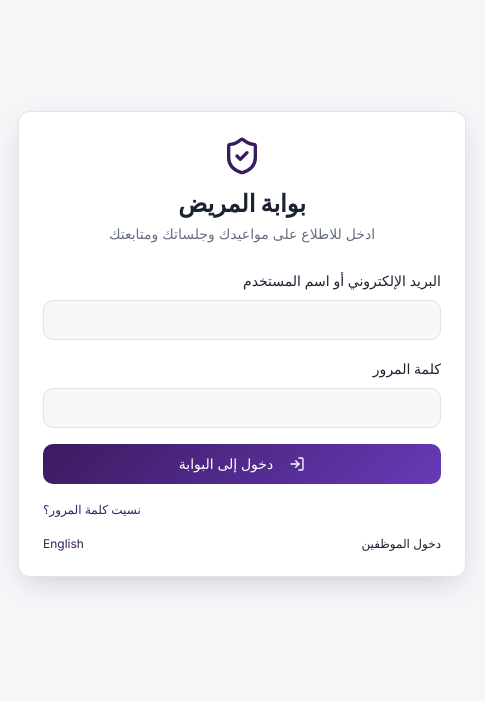
it: patient portal recovery request › speaks Arabic on the Arabic desk, in the dictionary's own words
Later steps or results of the test are not shown.
Click the button "نسيت كلمة المرور؟".
click(92, 510)  # box [43,502,141,518]
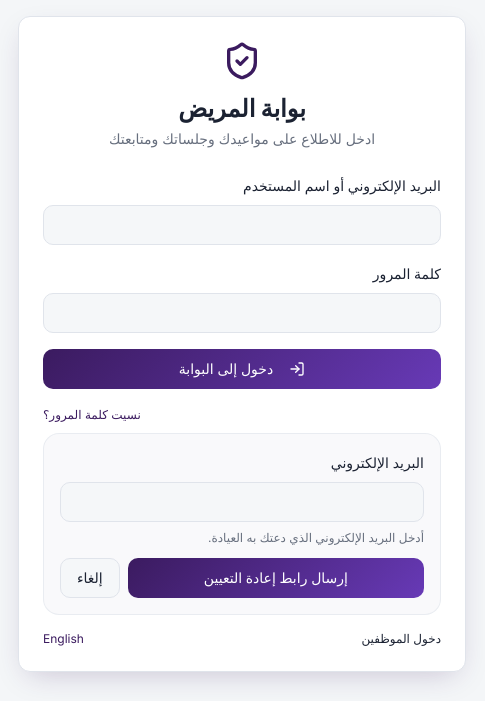
Type " Salma@Example.invalid " into the field labelled "البريد الإلكتروني".
click(242, 502); type(" Salma@Example.invalid ")  # box [60,482,424,522]
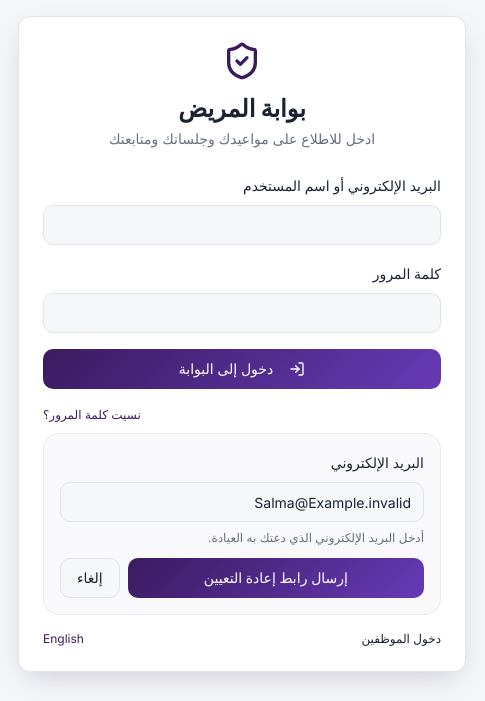
Result: the text "أدخل البريد الإلكتروني الذي دعتك به العيادة." is shown at [208,530,424,545]
Result: the button "إرسال رابط إعادة التعيين" is enabled at [128,558,424,598]
